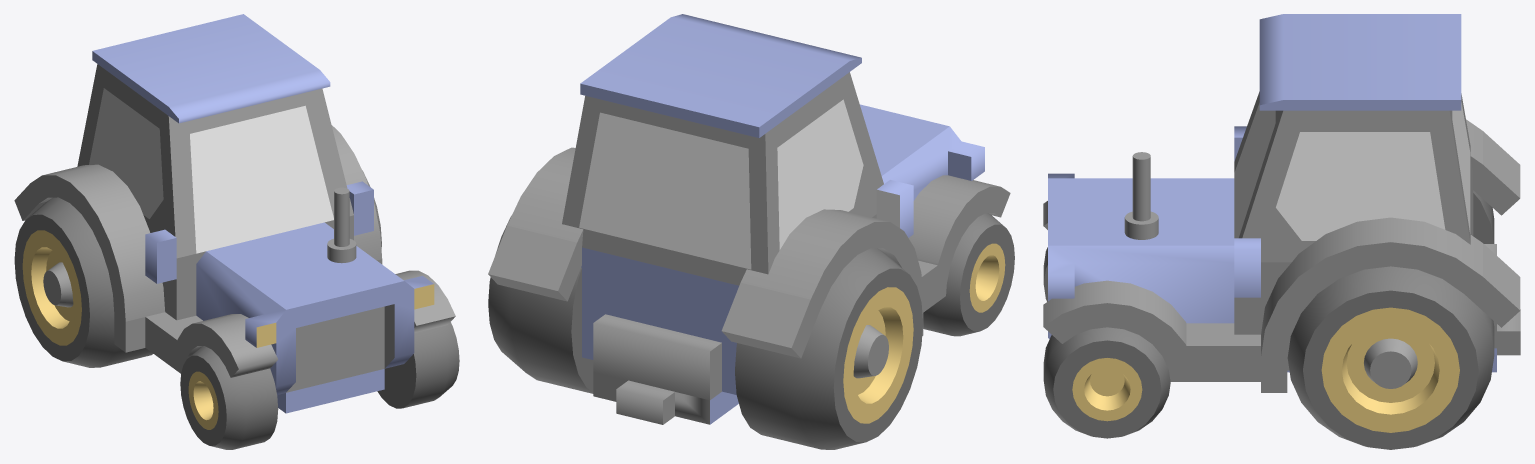
Rendered from tractor.fbx.
3 views of the same model, side by side, from view 1: azimuth 30°, elevation 25°; view 2: azimuth 150°, elevation 25°; view 3: azimuth 270°, elevation 25° (orthographic). The views are drawn at different scales.
Visible parts, largest first — view 1: body, skirts, wheel_backRight, wheel_frontRight, wheel_frontLeft; view 2: body, skirts, wheel_backRight, wheel_backLeft, wheel_frontRight; view 3: body, skirts, wheel_backLeft, wheel_frontLeft, wheel_backRight.
Boxes of the visible parts, box(x1,y1,x2,y2) form: body: box(77, 14, 434, 413); skirts: box(14, 125, 455, 377); wheel_backRight: box(14, 197, 153, 367); wheel_frontRight: box(180, 346, 278, 449); wheel_frontLeft: box(377, 322, 459, 408); body: box(562, 14, 984, 424); skirts: box(488, 147, 1010, 358); wheel_backRight: box(735, 248, 922, 449); wheel_backLeft: box(488, 215, 593, 393); wheel_frontRight: box(923, 213, 1014, 336); body: box(1048, 14, 1520, 372); skirts: box(1043, 119, 1520, 392); wheel_backLeft: box(1287, 266, 1494, 449); wheel_frontLeft: box(1043, 327, 1170, 438); wheel_backRight: box(1473, 190, 1494, 243).
Size of the model in its own units: 166 by 151 by 202.
